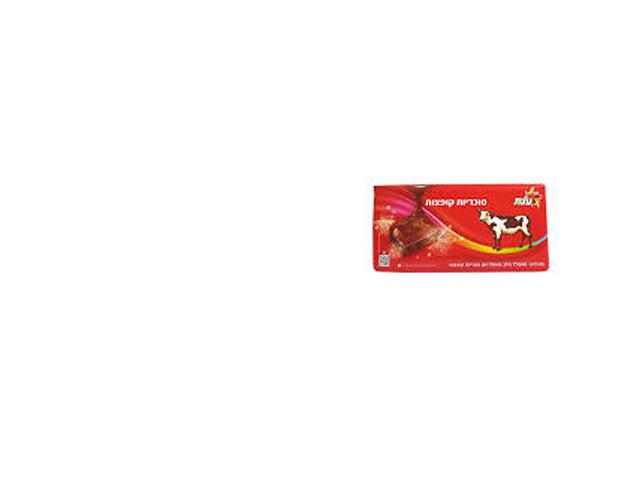chocolate: (369, 183, 557, 280)
